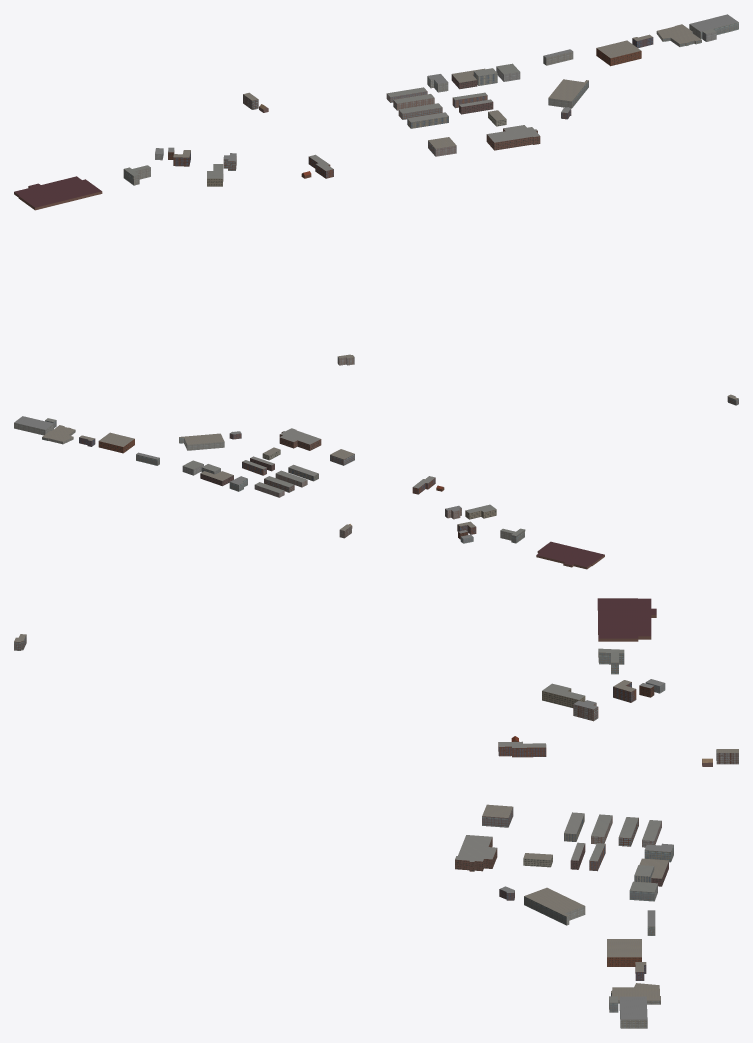
The model's file is buildings.dae.
3 renders of one model, top to bottom at view 1: azimuth 30°, elevation 25°; view 2: azimuth 150°, elevation 25°; view 3: azimuth 270°, elevation 25°, orthographic. The views are drawn at different scales.
Parts seen in each view (by area): view 1: map_9.osm_buildings; view 2: map_9.osm_buildings; view 3: map_9.osm_buildings.
Part boxes in pixels (x1,y1,x2,y2): map_9.osm_buildings: (14, 14, 738, 365); map_9.osm_buildings: (14, 394, 738, 569); map_9.osm_buildings: (14, 598, 738, 1028).
Bounding box in the file's own units: 1457 × 1045 × 19.27.
